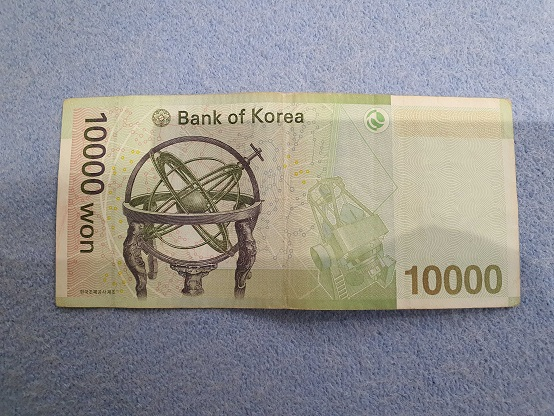10000won: (55, 92, 524, 314)
